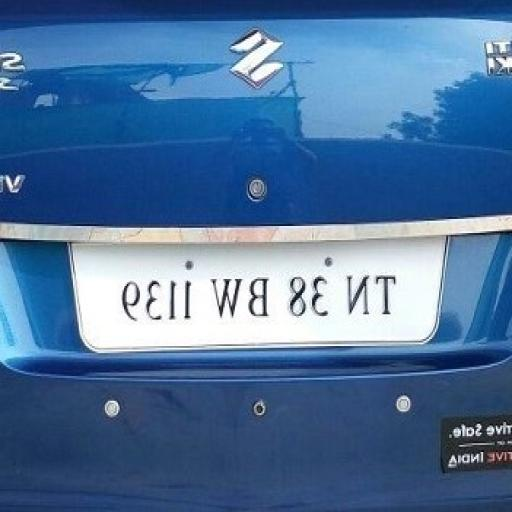License: (68, 235, 454, 351)
